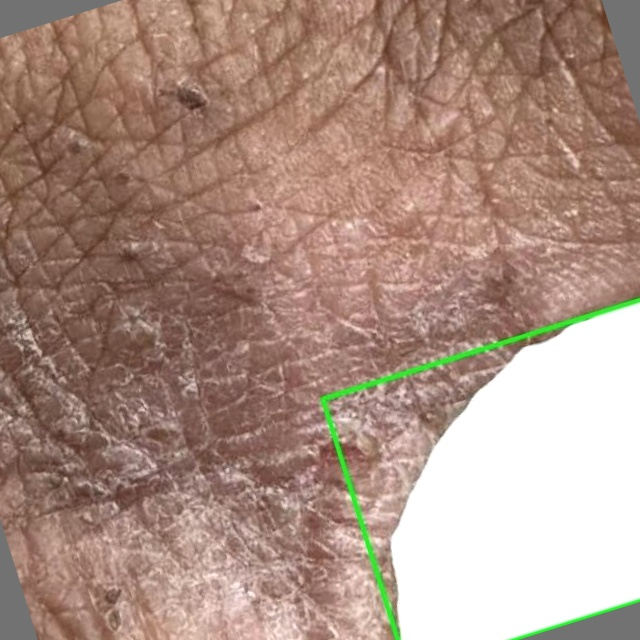Scabies: (322, 300, 639, 639)
